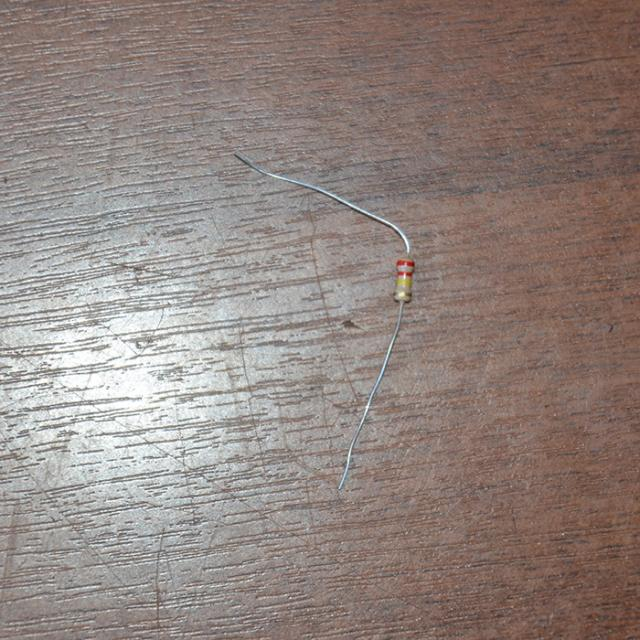gold: (394, 292, 412, 296)
red: (398, 261, 415, 266), (399, 271, 413, 276)
resistor: (390, 253, 419, 306)
yellow: (398, 280, 412, 285)
